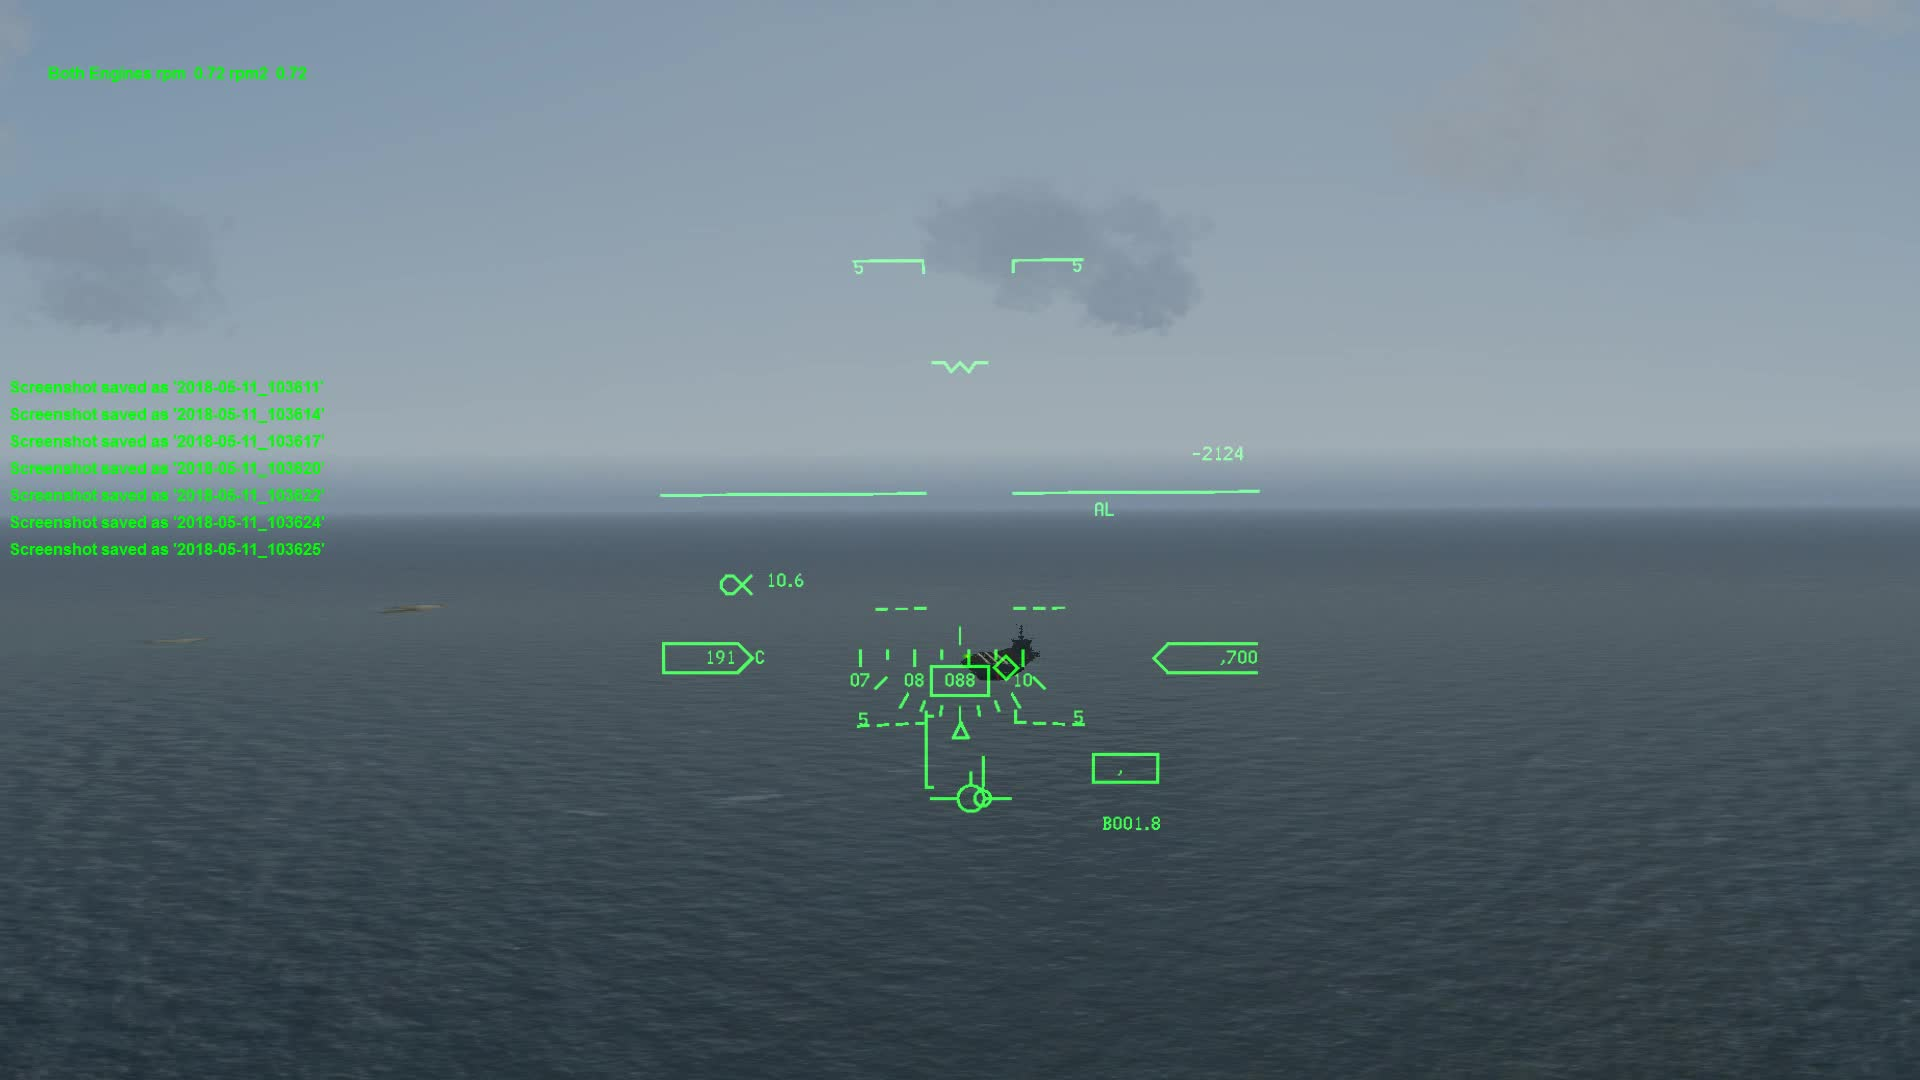speed vector: (945, 771, 1015, 833)
